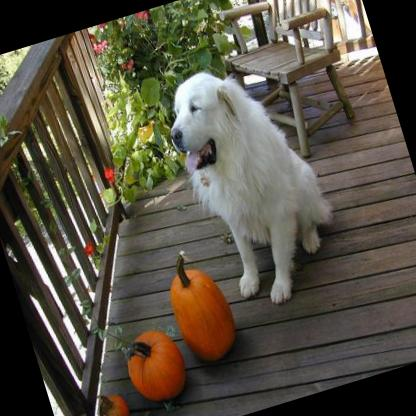Great_Pyrenees: (154, 46, 355, 318)
